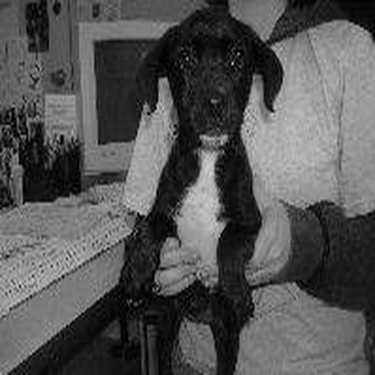dog: (112, 1, 290, 372)
